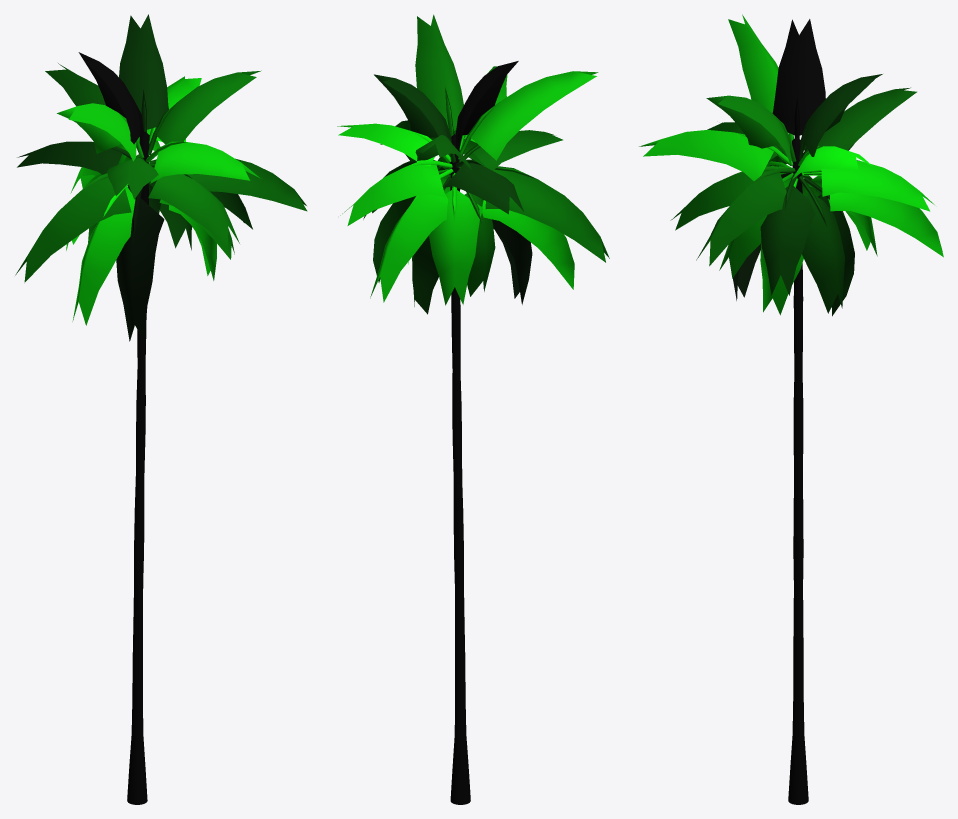
File: M_P10_Tree_10.fbx
The picture shows the model from 3 angles, left to right: view 1: azimuth 30°, elevation 25°; view 2: azimuth 150°, elevation 25°; view 3: azimuth 270°, elevation 25°; orthographic projection.
Parts seen in each view (by area): view 1: Palm_2_2; view 2: Palm_2_2; view 3: Palm_2_2.
Boxes of the visible parts, x1,y1,x2,y2 form: Palm_2_2: (15, 14, 307, 804); Palm_2_2: (337, 14, 609, 804); Palm_2_2: (639, 14, 943, 804).
Size of the model in its own units: 273 by 760 by 279.
